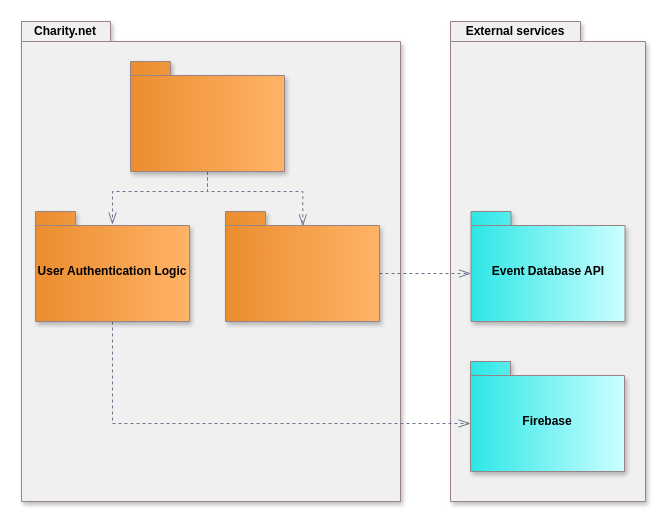
This 669x526 diagram has some shape labels left out. The shapes that lost their labels are listed below. From the top down, each one's centre as x and y in pixels, then its label:
pixel 208 117: Event Finder Application
pixel 303 267: Event Listing Logic
